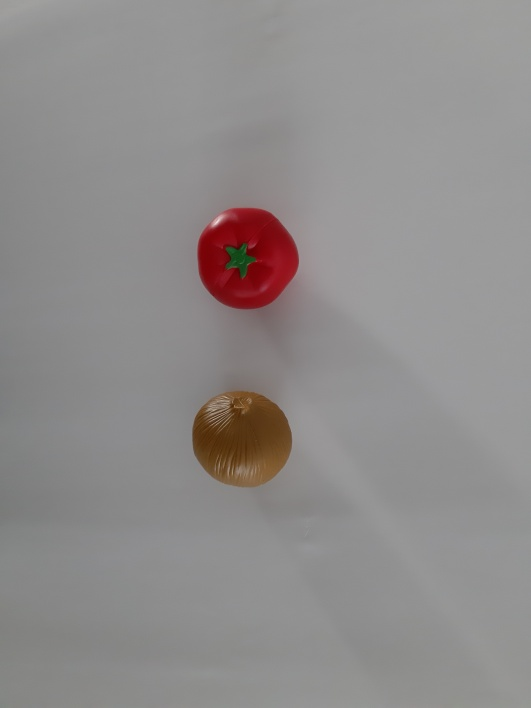onion: (187, 379, 301, 498)
tomato: (184, 200, 314, 315)
